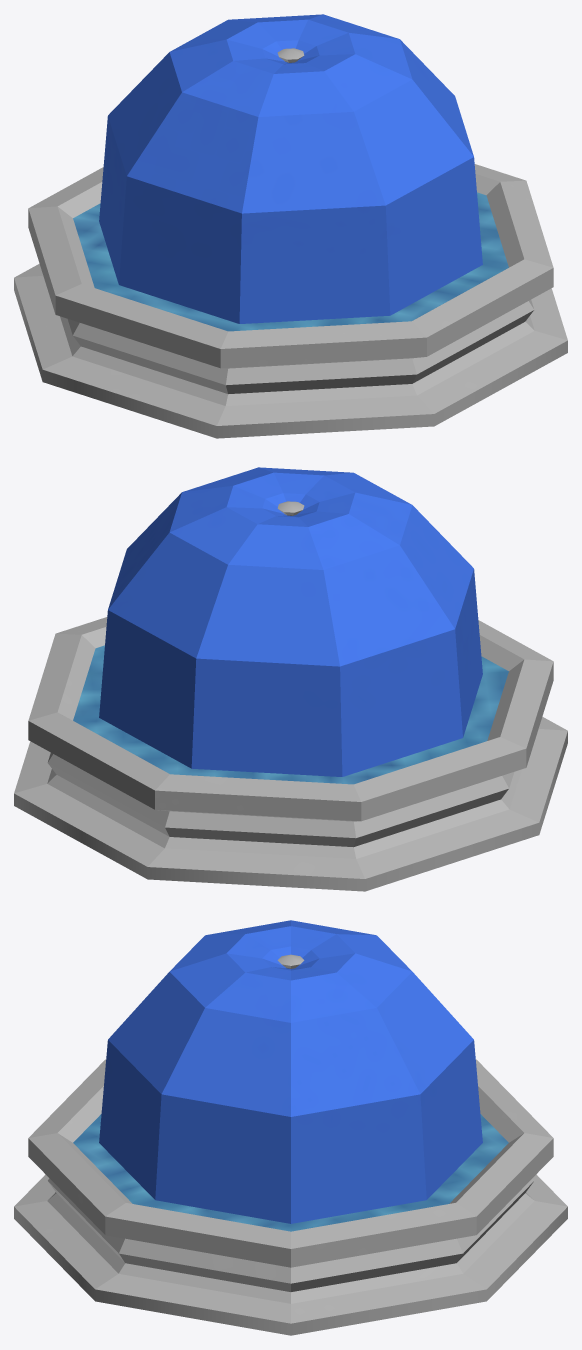
File: gg_Fountain.FBX
3 views of the same model, one above another, from view 1: azimuth 30°, elevation 25°; view 2: azimuth 150°, elevation 25°; view 3: azimuth 270°, elevation 25° (orthographic). The views are drawn at different scales.
Visible parts, largest first — view 1: gg_Fountain; view 2: gg_Fountain; view 3: gg_Fountain.
Boxes of the visible parts, <box> form: gg_Fountain: <box>14,14,567,438</box>; gg_Fountain: <box>14,467,567,891</box>; gg_Fountain: <box>14,920,567,1335</box>.
Bounding box in the file's own units: 289 × 153 × 289.
Materials: 1 (1 with a texture image).
